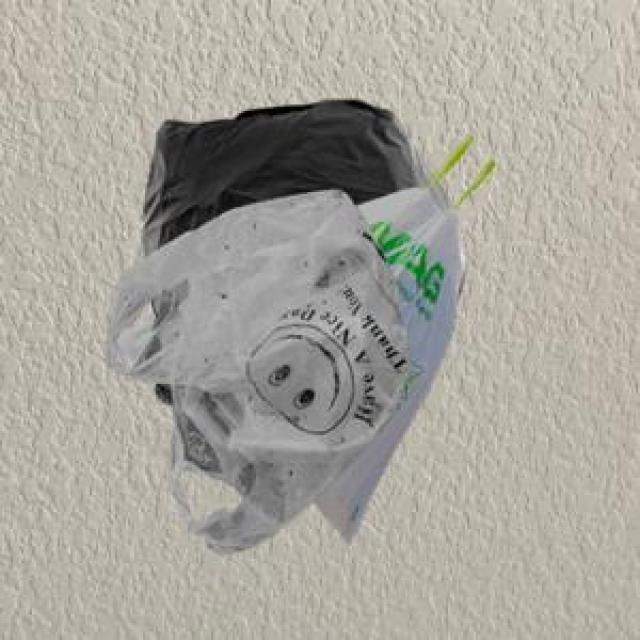miscellaneous trash: (134, 96, 463, 401)
